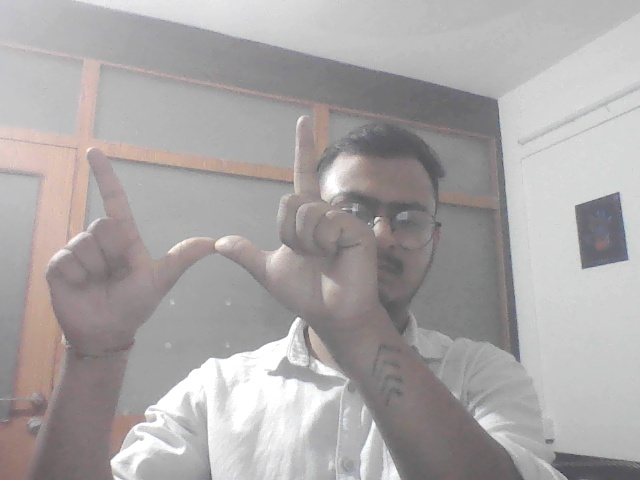Whatever: (42, 111, 401, 368)
